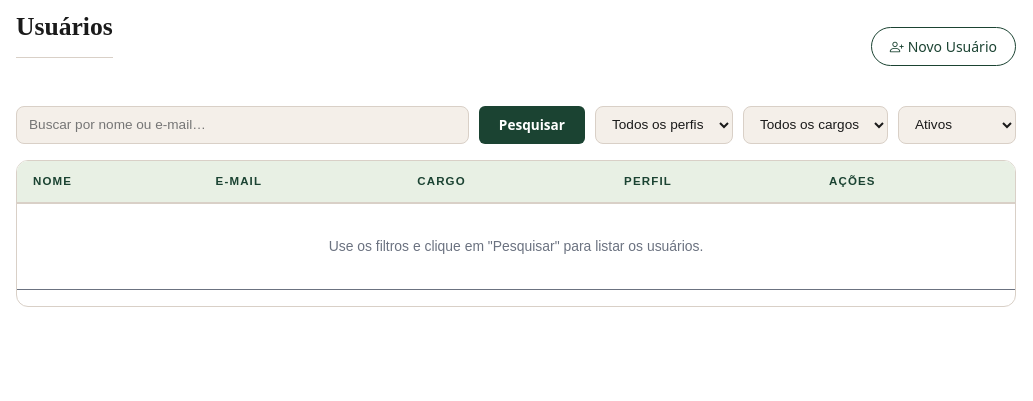
Test: UserList — filtros (rascunho → aplica) › status "Todos" refaz o fetch (incluir_excluidos) só ao aplicar
Select "Todos" in the 3rd dropdown at [957, 125], box [898, 106, 1016, 144]
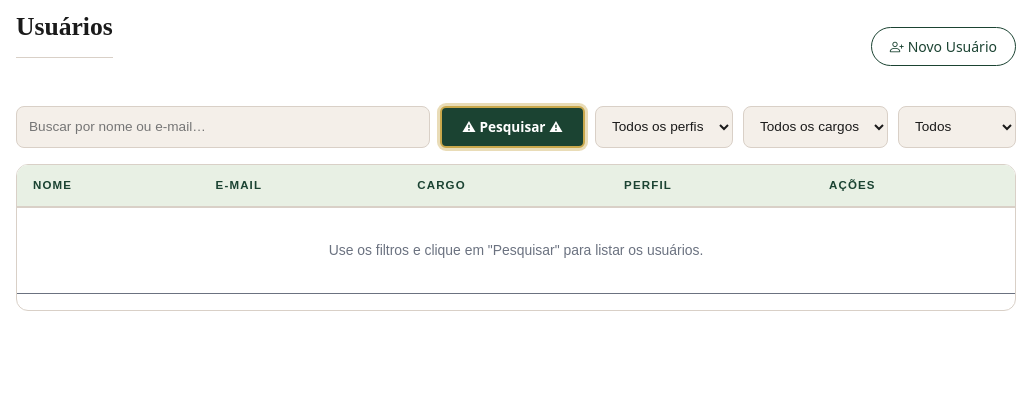
Click the button with class "user-list-btn-filtrar".
click(512, 127)  # box [440, 106, 585, 148]
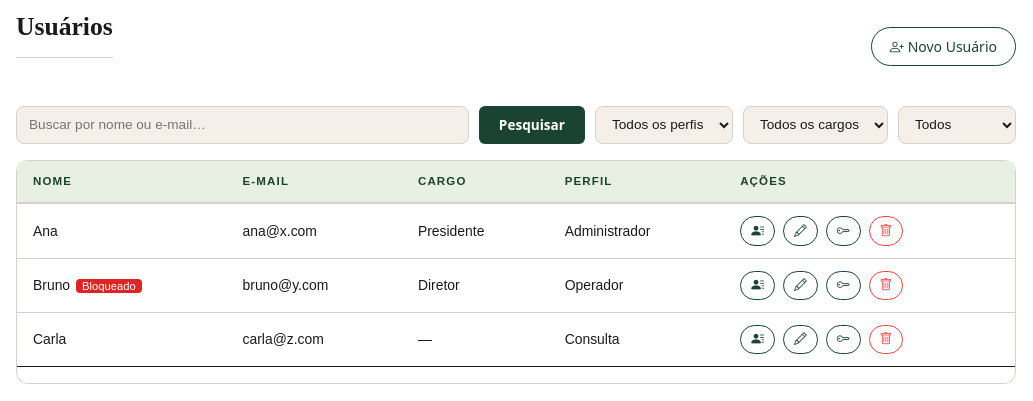
Now the text "ana@x.com" is shown, box [226, 203, 402, 258]
Now the text "bruno@y.com" is shown, box [226, 258, 402, 312]
Now the text "carla@z.com" is shown, box [226, 312, 402, 366]
